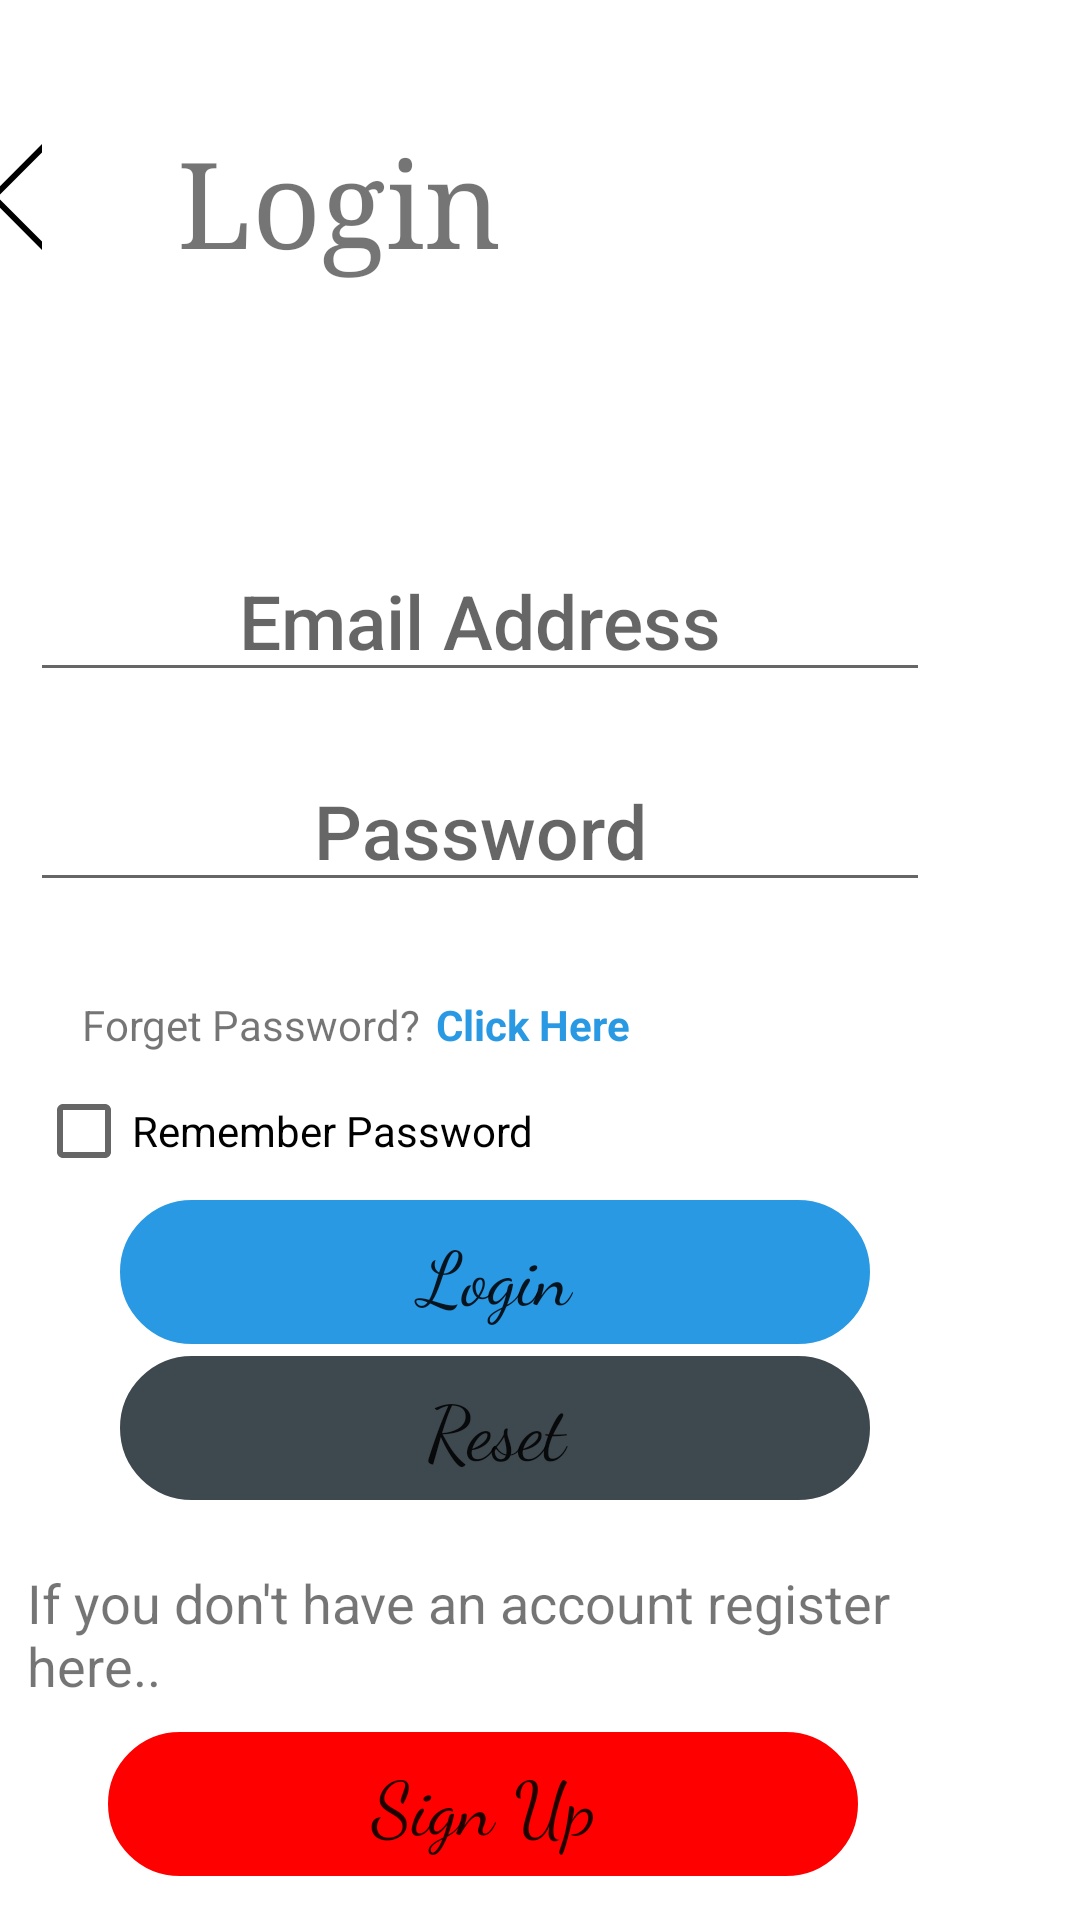

Icon click points for this 1080w x 1920h phone screenshot, format (x=x, y=y):
return back: (x=21, y=197)
